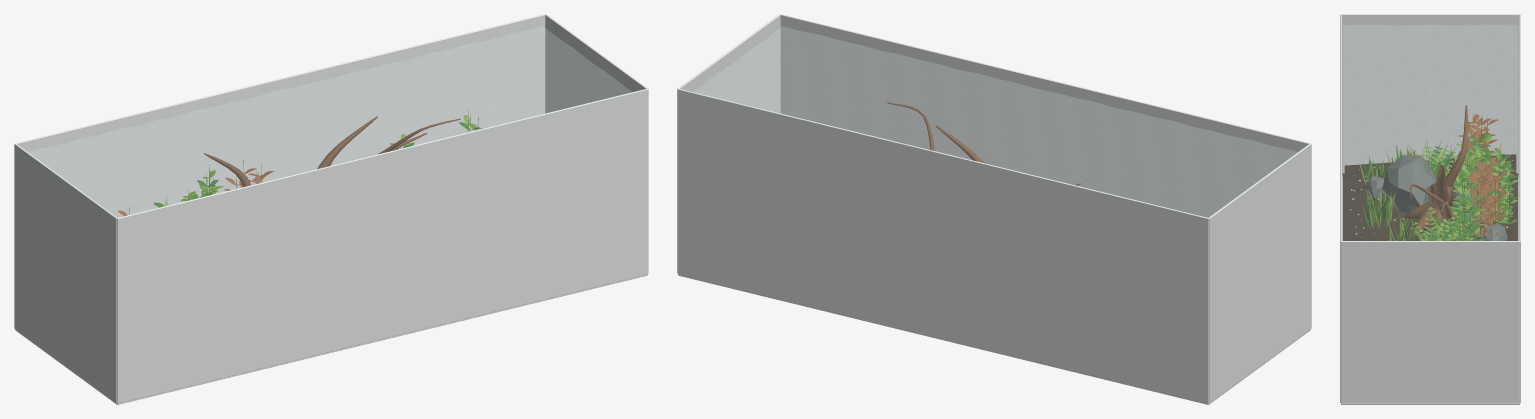
The model's file is aquarium.glb.
3 views of the same model, side by side, from view 1: azimuth 30°, elevation 25°; view 2: azimuth 150°, elevation 25°; view 3: azimuth 270°, elevation 25° (orthographic). The views are drawn at different scales.
Visible parts, largest first — view 1: tank.glass.front, tank.glass.back, water.surface, tank.glass.left, tank.glass.right, tank.glass.base, hardscape.wood.angular; view 2: tank.glass.back, tank.glass.front, water.surface, tank.glass.left, tank.glass.right, tank.glass.base; view 3: water.surface, tank.glass.right, tank.glass.left, bed.left, hardscape.stone.00, hardscape.wood.angular, plants.stem.020, plants.stem.021, plants.stem.016, plants.stem.015, tank.glass.back, tank.glass.front (+21 smaller).
Boxes of the visible parts, box(x1,y1,x2,y2) form: tank.glass.front: box(117, 89, 647, 403); tank.glass.back: box(15, 14, 545, 217); water.surface: box(29, 26, 631, 217); tank.glass.left: box(14, 143, 117, 403); tank.glass.right: box(545, 14, 648, 273); tank.glass.base: box(15, 274, 647, 404); hardscape.wood.angular: box(204, 116, 460, 187); tank.glass.back: box(678, 89, 1208, 403); tank.glass.front: box(780, 14, 1310, 217); water.surface: box(695, 26, 1296, 217); tank.glass.left: box(1208, 143, 1311, 403); tank.glass.right: box(677, 14, 780, 273); tank.glass.base: box(678, 274, 1310, 404); water.surface: box(1343, 25, 1517, 240); tank.glass.right: box(1341, 241, 1519, 403); tank.glass.left: box(1341, 14, 1519, 176); bed.left: box(1344, 154, 1516, 240); hardscape.stone.00: box(1382, 155, 1436, 214); hardscape.wood.angular: box(1404, 105, 1469, 236); plants.stem.020: box(1468, 154, 1508, 238); plants.stem.021: box(1449, 186, 1486, 240); plants.stem.016: box(1491, 142, 1518, 233); plants.stem.015: box(1458, 113, 1498, 170); tank.glass.back: box(1519, 14, 1520, 403); tank.glass.front: box(1340, 14, 1341, 403).
Size of the model in its own units: 0.903 by 0.303 by 0.303.
